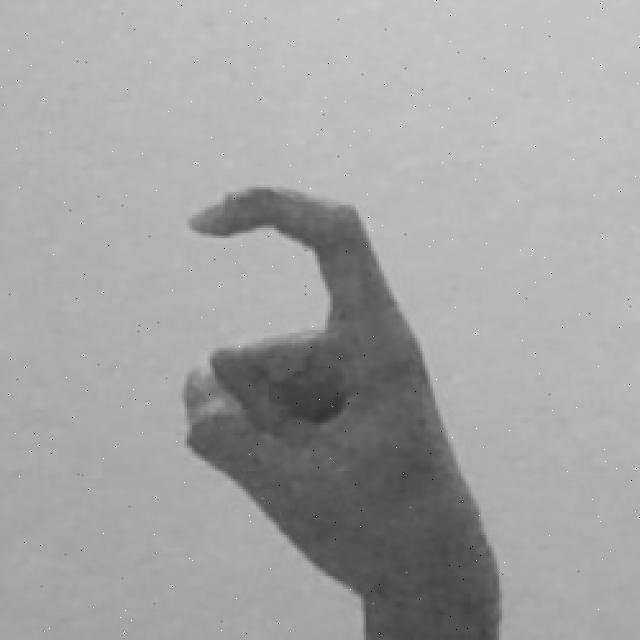X: (165, 176, 504, 640)
